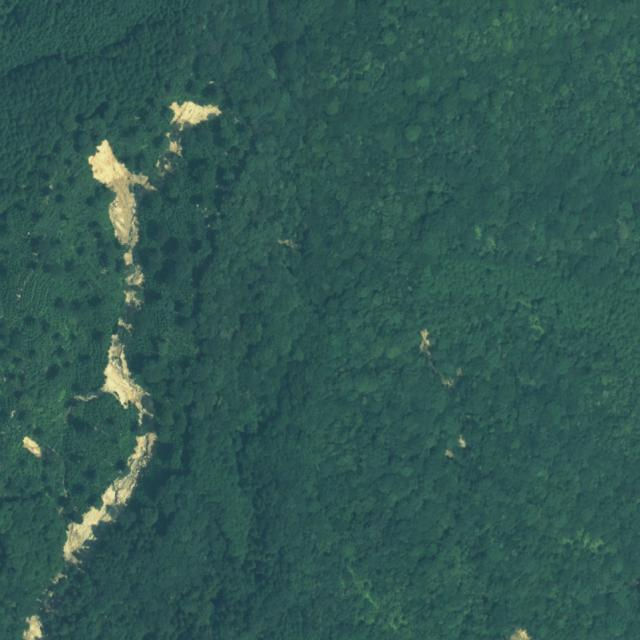landslide: (88, 139, 154, 427), (63, 431, 156, 564), (173, 103, 210, 130)
